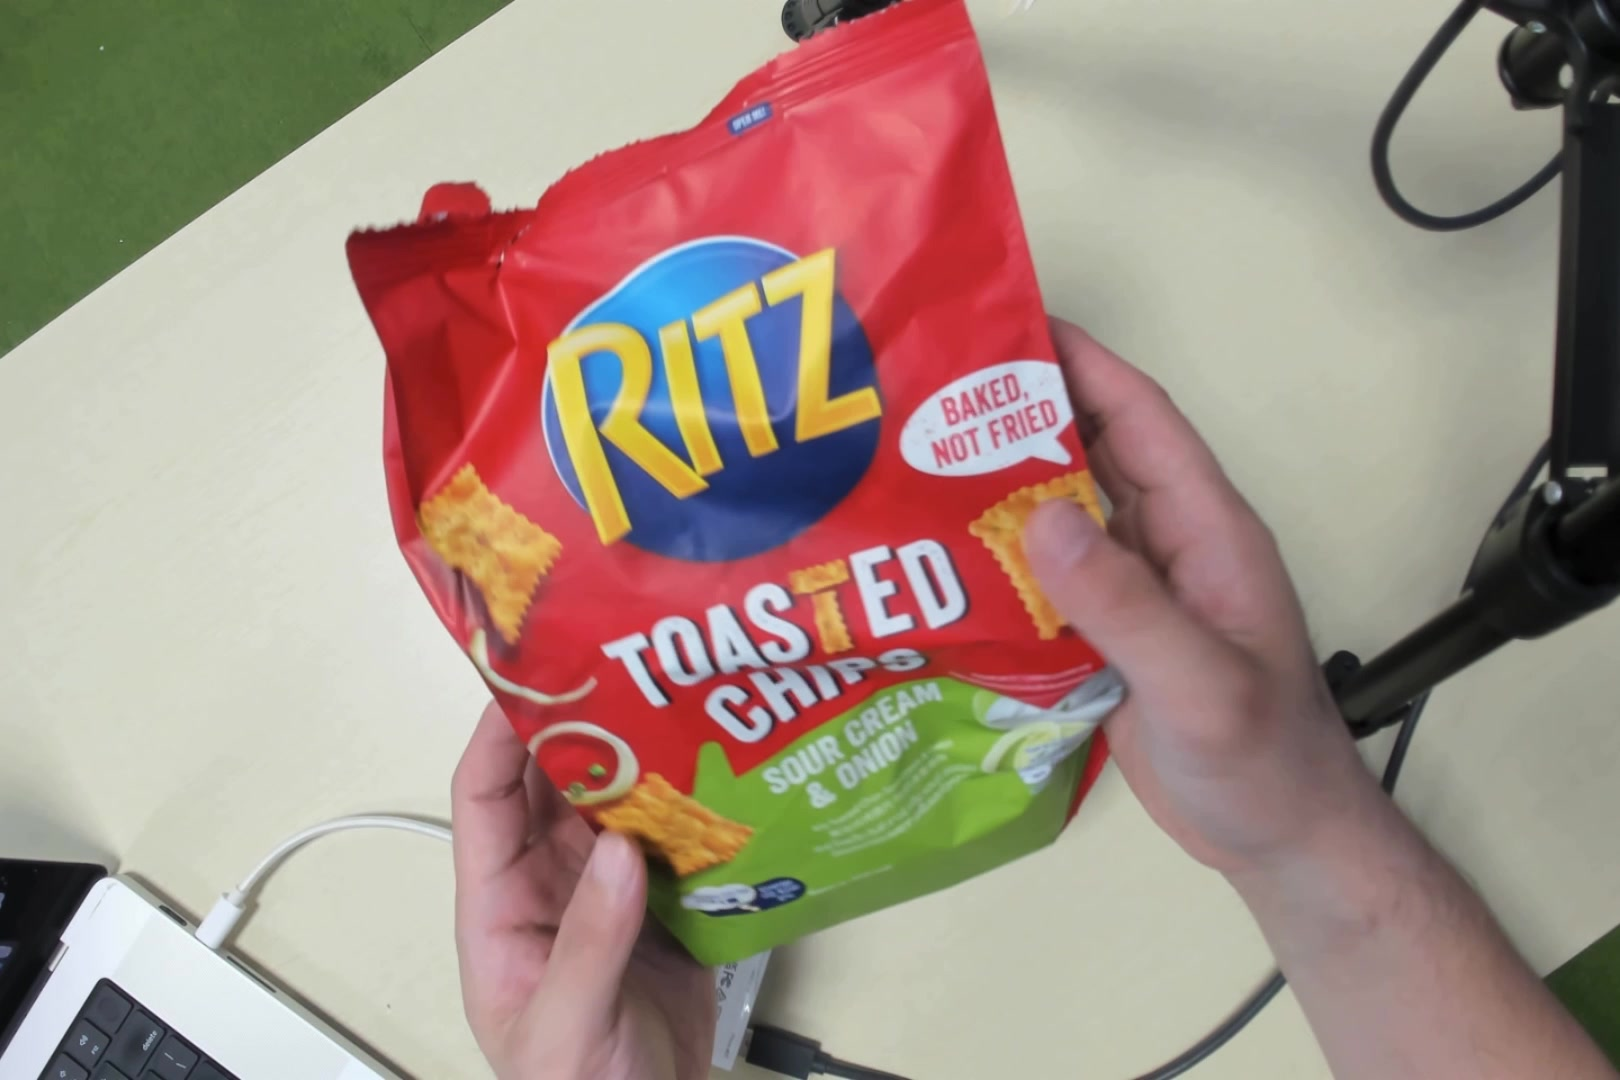BiscuitsCrackersCookies_200-299g_NonHalal_NonHealthy: (442, 133, 1088, 896)
